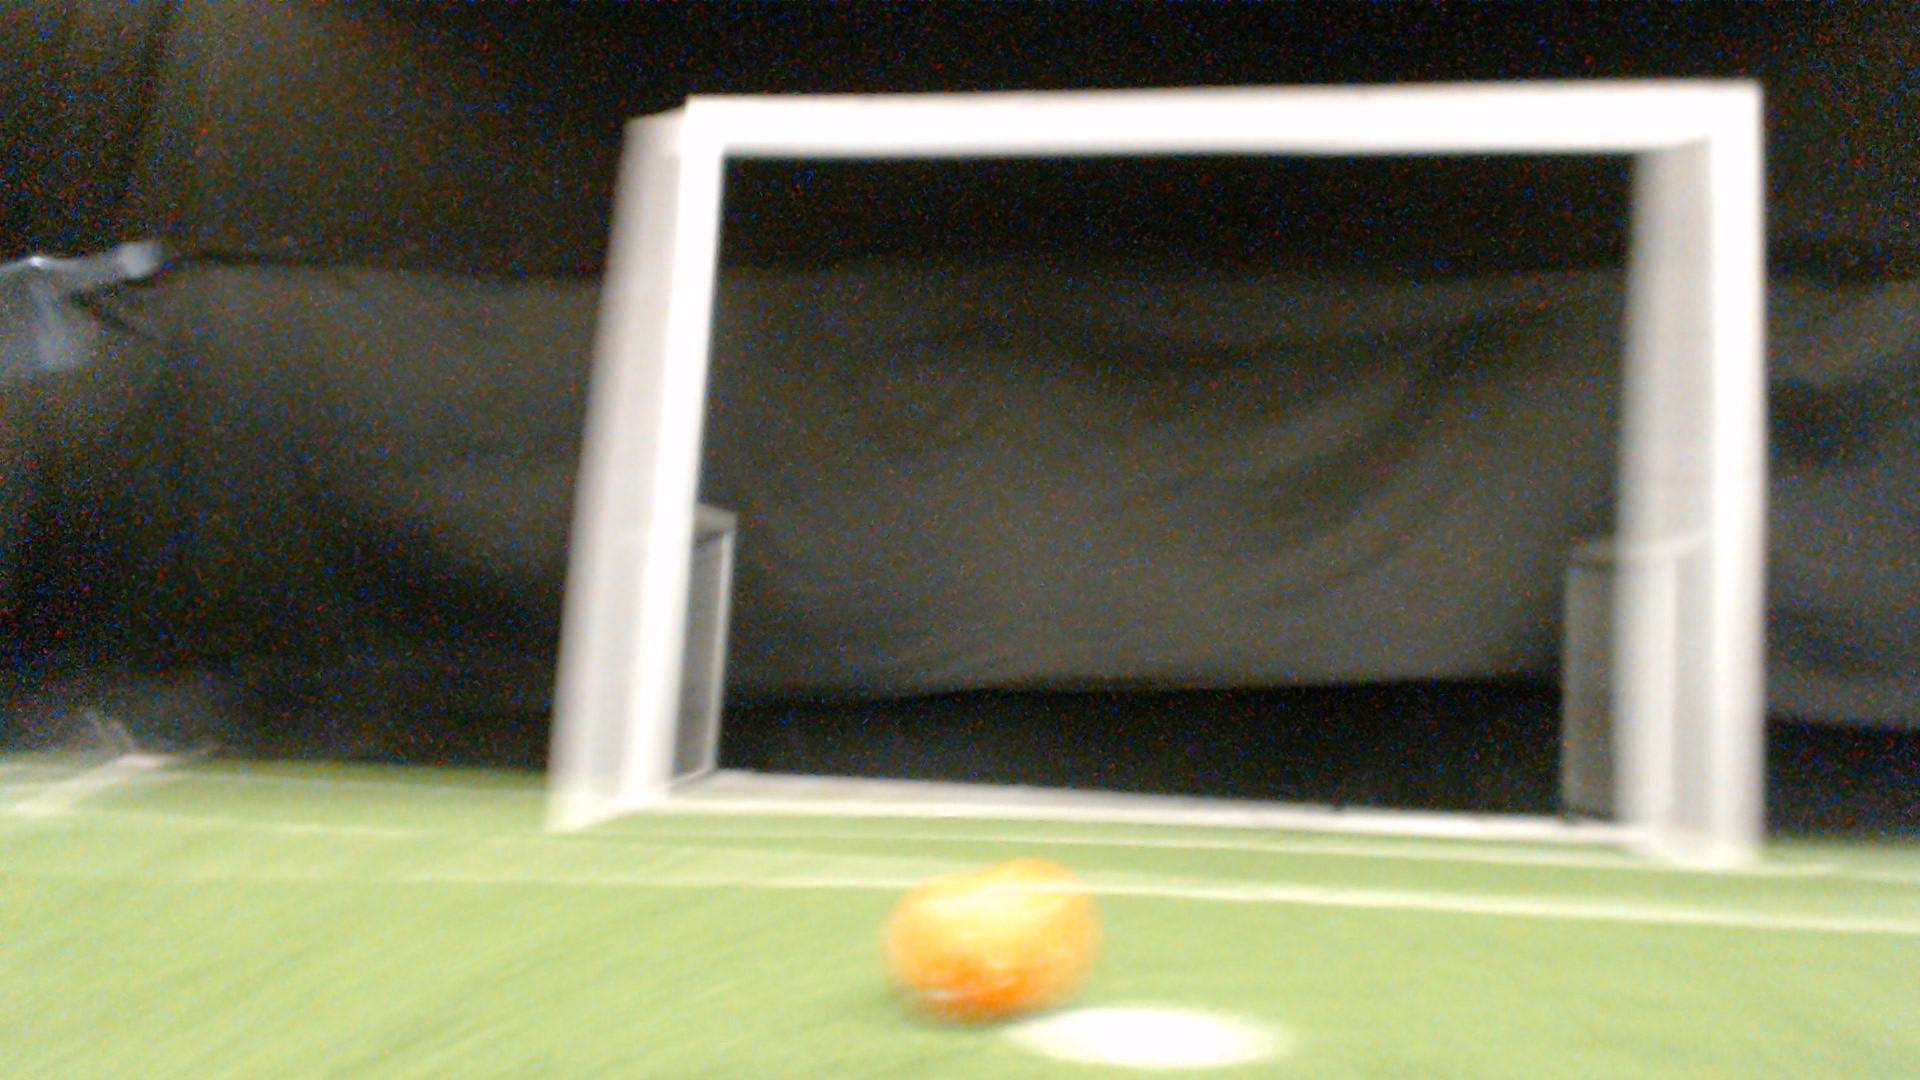bola: (868, 829, 1116, 1030)
